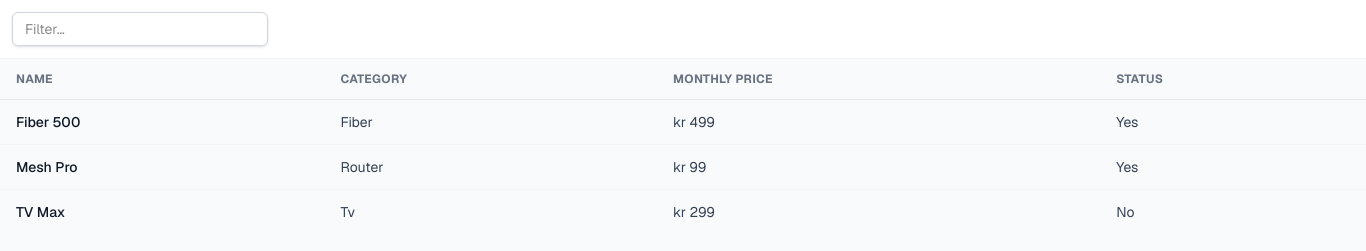
generic ListView › filters rows by a free-text query across columns
Expected: the number of rows is 4, x1=0 y1=59 x2=1365 y2=100; x1=0 y1=100 x2=1365 y2=144; x1=0 y1=144 x2=1365 y2=190; x1=0 y1=190 x2=1365 y2=234
Type "mesh" into the field labelled "Filter…" at (140, 29), box x1=12 y1=12 x2=268 y2=46
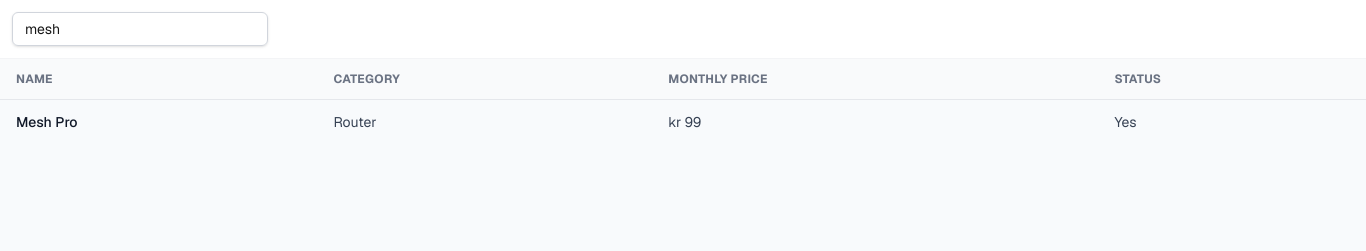
Expected: the link "Mesh Pro" is shown, x1=16 y1=113 x2=78 y2=131
Expected: the link "Fiber 500" is gone
